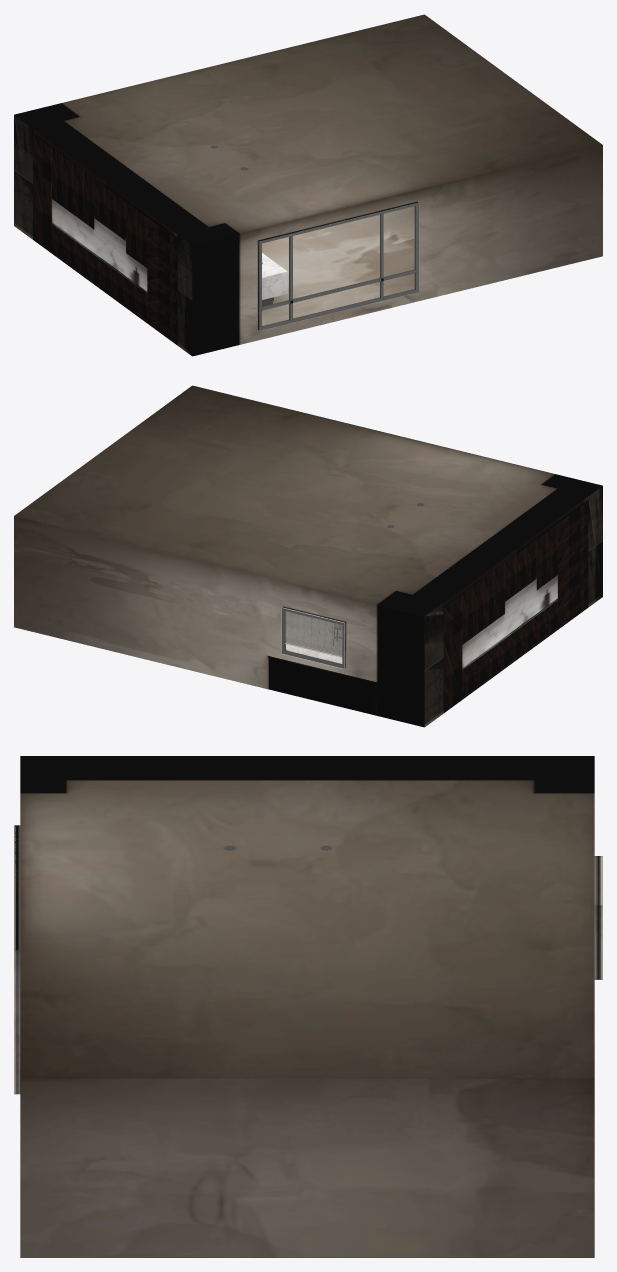
File: modern_scandinavian_kitchen_island.glb
The picture shows the model from 3 angles, top to bottom: view 1: azimuth 30°, elevation 25°; view 2: azimuth 150°, elevation 25°; view 3: azimuth 270°, elevation 25°; orthographic projection. The views are drawn at different scales.
Parts seen in each view (by area): view 1: house, wood, frame, table; view 2: house, wood, curtain, frame, table; view 3: house.
Part boxes in pixels (x1=…): house: x1=14, y1=14, x2=602, y2=356; wood: x1=33, y1=129, x2=177, y2=344; frame: x1=258, y1=202, x2=418, y2=330; table: x1=52, y1=222, x2=287, y2=299; house: x1=14, y1=385, x2=602, y2=727; wood: x1=444, y1=497, x2=588, y2=712; curtain: x1=284, y1=611, x2=342, y2=657; frame: x1=282, y1=608, x2=344, y2=668; table: x1=286, y1=599, x2=557, y2=669; house: x1=14, y1=756, x2=602, y2=1257.
Bounding box in the file's own units: 11.59 × 3 × 8.94.
Materials: 31 (31 with a texture image).
